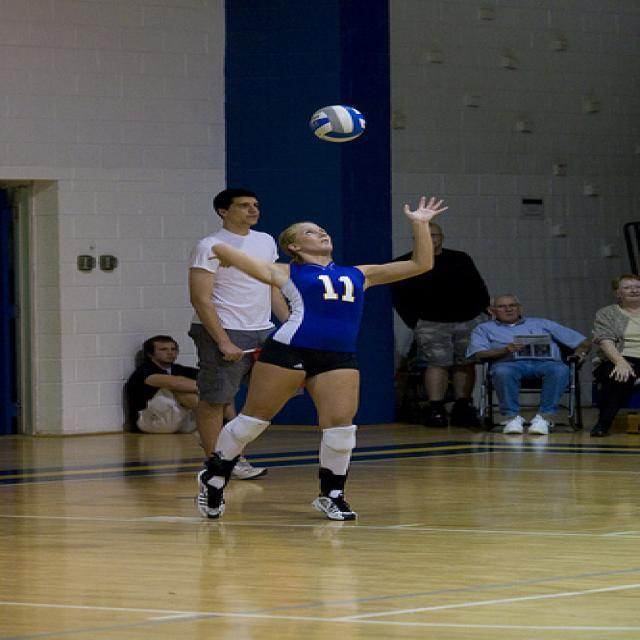volleyball: (310, 105, 364, 144)
